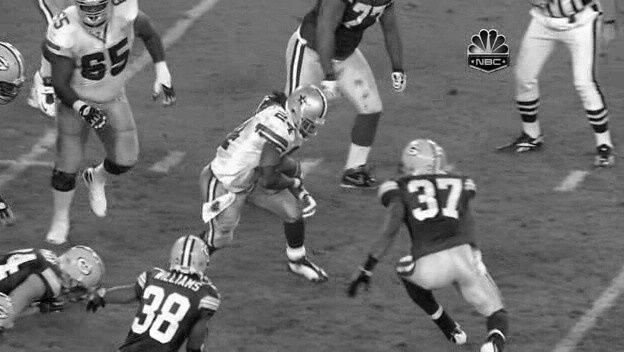person: (287, 87, 322, 139), (286, 87, 321, 139), (288, 87, 323, 139), (287, 86, 322, 138), (287, 88, 322, 140)
target_negative: (31, 43, 422, 268), (187, 47, 401, 302), (9, 120, 458, 219), (519, 185, 564, 270), (286, 146, 309, 201), (246, 238, 258, 296)
